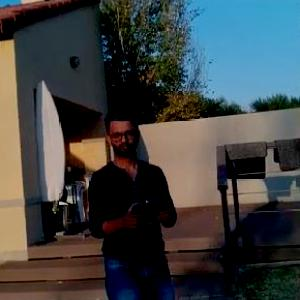follow: (84, 105, 183, 299)
